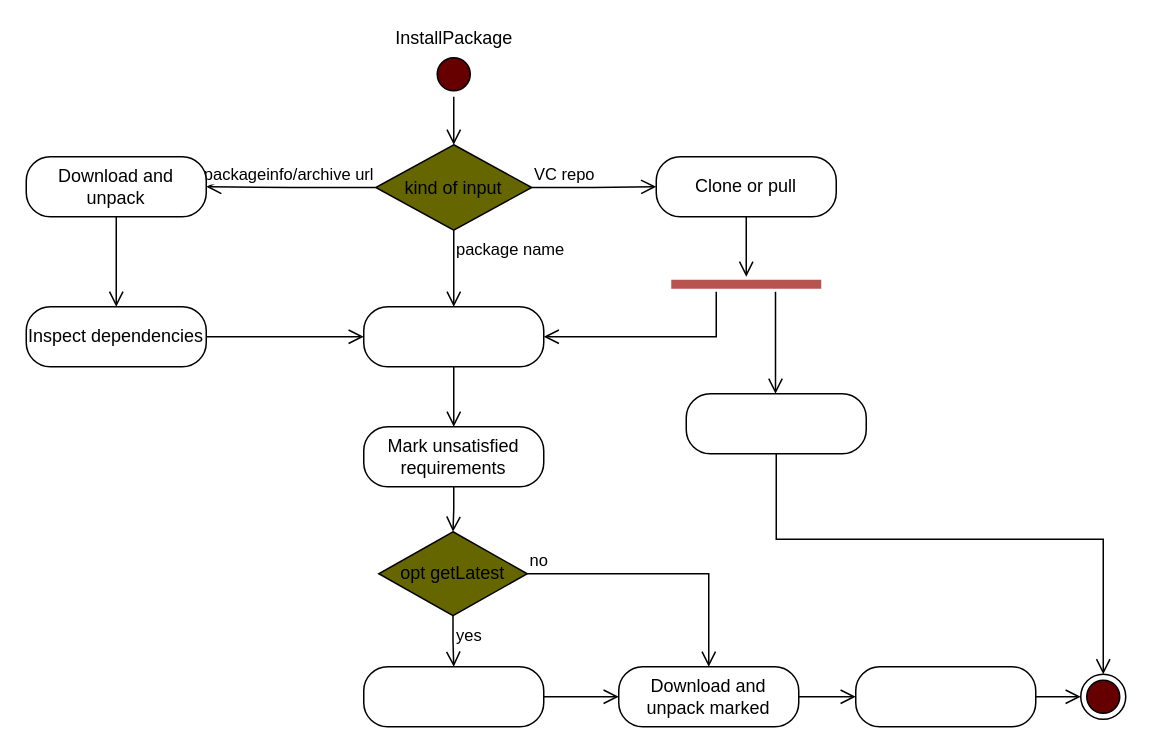
This 1152x753 diagram has some shape labels left out. The box of each missing label's shape, as (x1, y1, x2, y2) in pixels:
Compile all in graph: (854, 665, 1036, 727)
Compute dependency graph: (362, 305, 544, 367)
Make doc: (685, 392, 866, 454)
Mark available upgrades: (362, 665, 544, 727)
